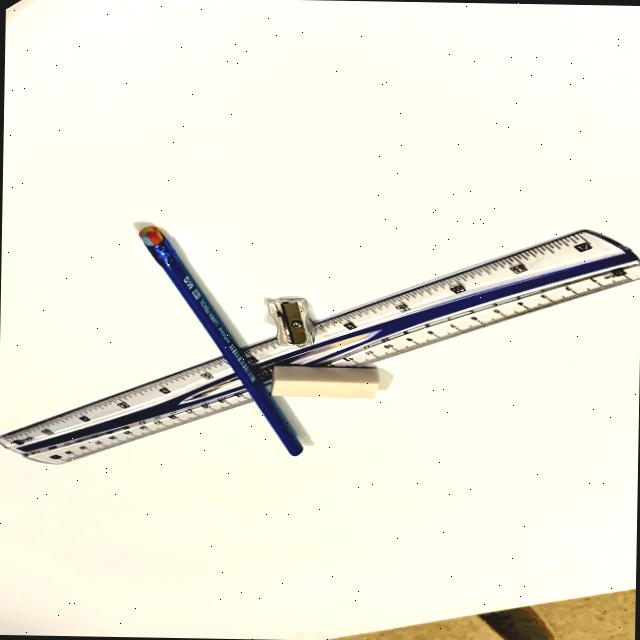Eraser: (266, 360, 382, 402)
Pencil: (121, 218, 313, 464)
Scale: (0, 219, 640, 469)
Sharpner: (259, 294, 320, 347)
